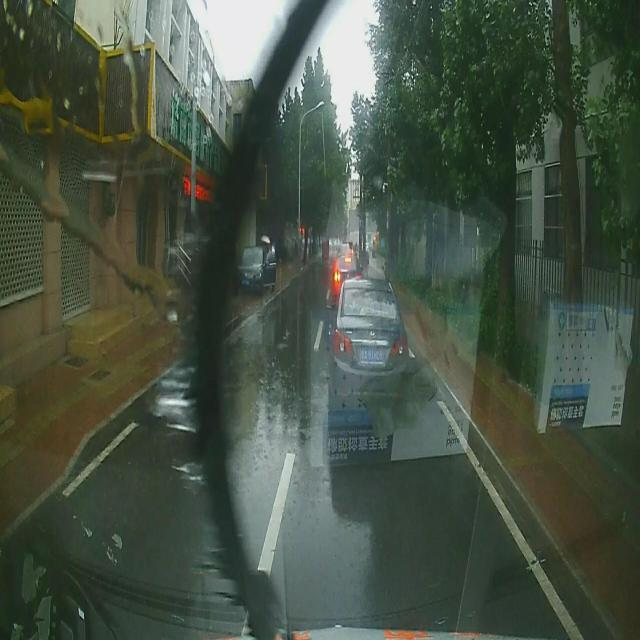car: (328, 276, 409, 402), (236, 239, 278, 289), (331, 245, 361, 292)
